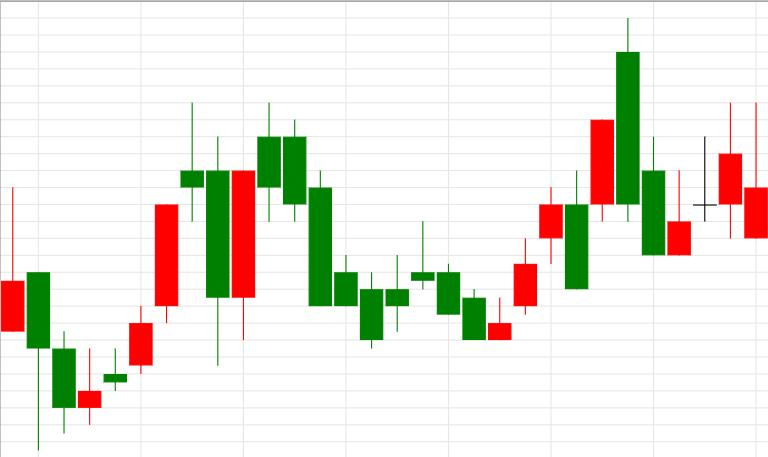bearish_engulfing_fall: (489, 18, 639, 341)
